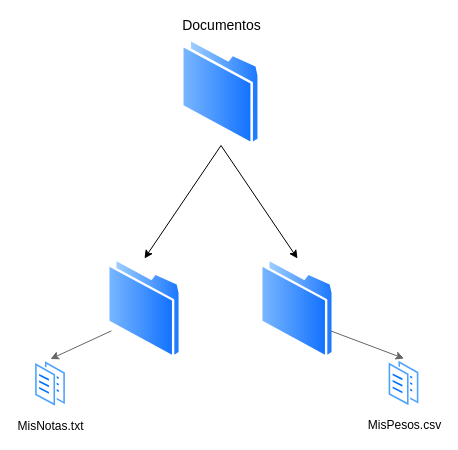
This 458x450 diagram has some shape labels left out. The shapes that lost their labels are listed below. From the top down, each one's box as (x1, y1, x2, y2) in pixels, then its label:
(107, 258, 181, 358): Notas
(260, 258, 334, 358): Historico
